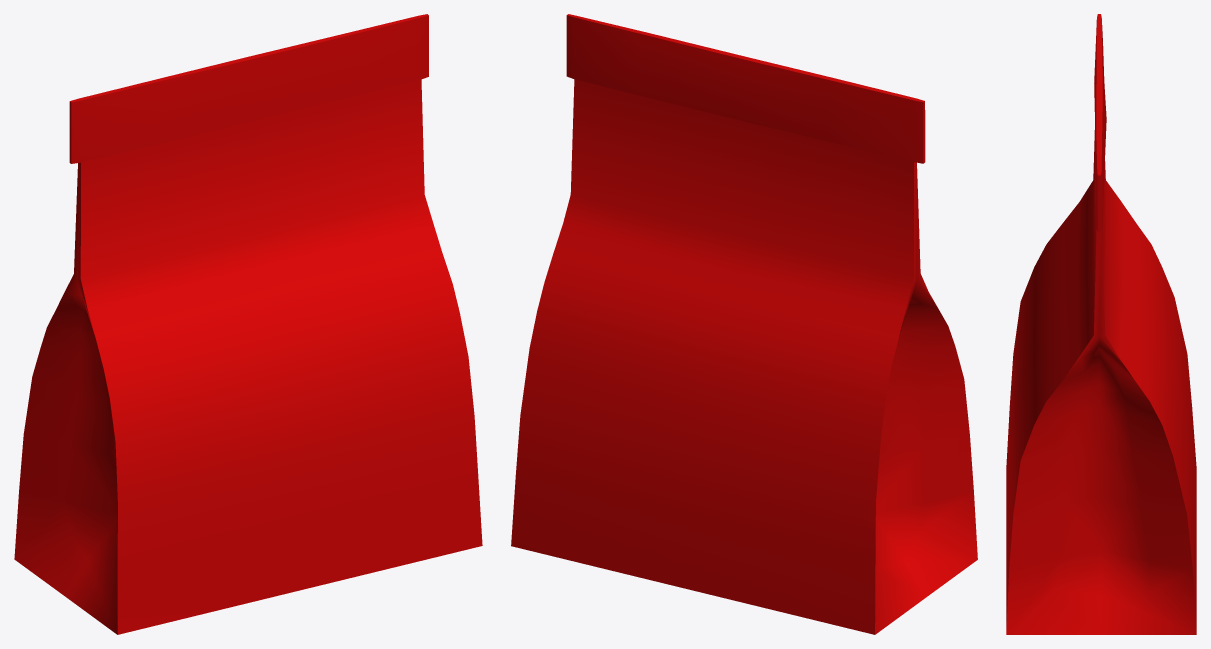
Rendered from SM_Evidence_Package_6.FBX.
3 views of the same model, side by side, from view 1: azimuth 30°, elevation 25°; view 2: azimuth 150°, elevation 25°; view 3: azimuth 270°, elevation 25° (orthographic). The views are drawn at different scales.
Parts seen in each view (by area): view 1: Evidence_Package_6; view 2: Evidence_Package_6; view 3: Evidence_Package_6.
Part boxes in pixels (x1,y1,x2,y2): Evidence_Package_6: (14, 14, 482, 634); Evidence_Package_6: (511, 14, 977, 634); Evidence_Package_6: (1006, 14, 1196, 634).
Size of the model in its own units: 23.84 by 30.92 by 11.66.
